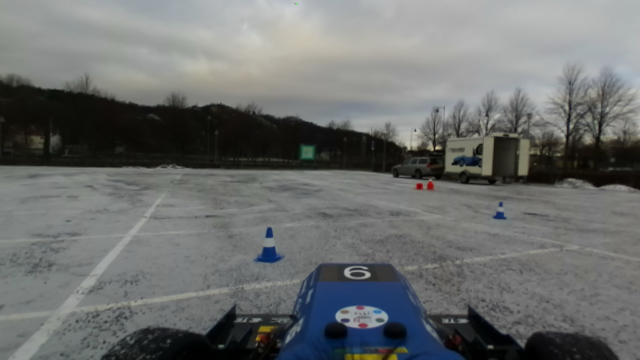blue: (254, 227, 284, 264), (491, 200, 509, 221)
